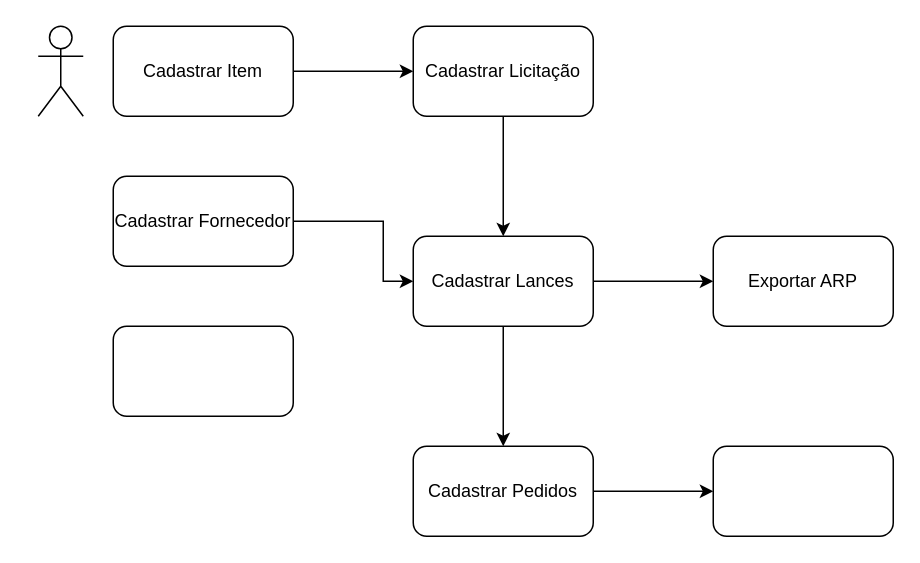
Some shapes in this 920 by 563 pixel diagram are drawn without their labels. The centre of each missing label's shape, as x and y in pixels:
"Consultar Licitações" belongs at (x=202, y=370).
"Gerar Ofício Pedido" belongs at (x=802, y=490).
"Licitação" belongs at (x=60, y=70).
